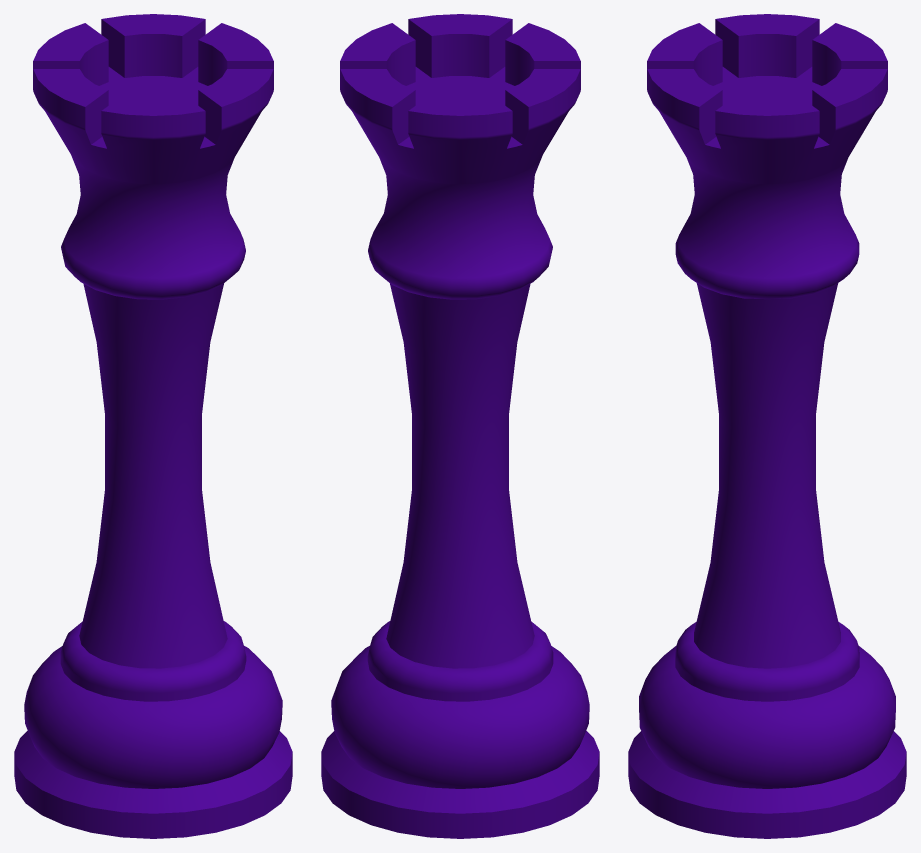
File: queen.glb
3 renders of one model, left to right at view 1: azimuth 30°, elevation 25°; view 2: azimuth 150°, elevation 25°; view 3: azimuth 270°, elevation 25°, orthographic.
Bounding box in the file's own units: 0.0299 × 0.085 × 0.0299.
